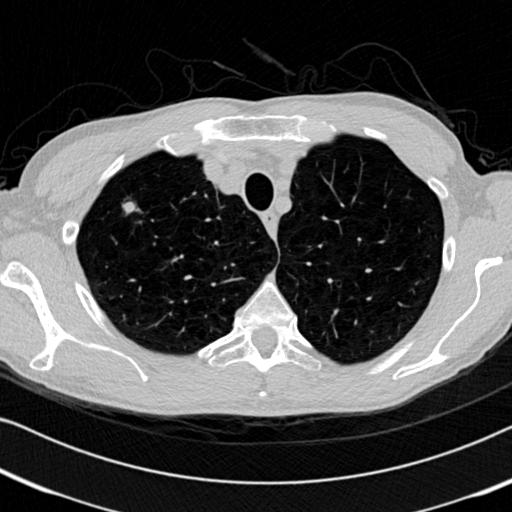nodule: (120, 199, 137, 216)
